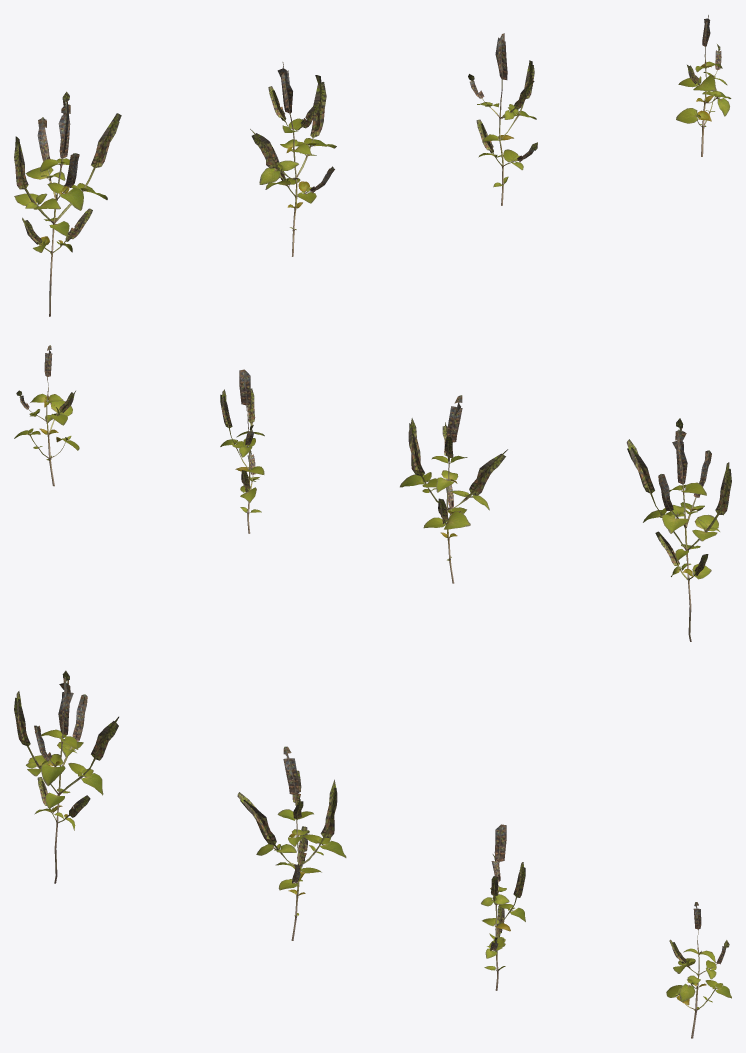
The model's file is shrub.glb.
The picture shows the model from 3 angles, top to bottom: view 1: azimuth 30°, elevation 25°; view 2: azimuth 150°, elevation 25°; view 3: azimuth 330°, elevation 25°; orthographic projection. The views are drawn at different scales.
Parts seen in each view (by area): view 1: shrub_03_a, shrub_03_b, shrub_03_c, shrub_03_d; view 2: shrub_03_a, shrub_03_b, shrub_03_c, shrub_03_d; view 3: shrub_03_a, shrub_03_b, shrub_03_c, shrub_03_d.
Part boxes in pixels (bbox=[...]): shrub_03_a: bbox=[14, 91, 121, 316]; shrub_03_b: bbox=[250, 62, 336, 256]; shrub_03_c: bbox=[468, 33, 537, 205]; shrub_03_d: bbox=[676, 15, 731, 156]; shrub_03_a: bbox=[626, 418, 731, 641]; shrub_03_b: bbox=[400, 395, 507, 583]; shrub_03_c: bbox=[220, 369, 264, 533]; shrub_03_d: bbox=[14, 345, 79, 486]; shrub_03_a: bbox=[14, 670, 118, 883]; shrub_03_b: bbox=[237, 746, 346, 940]; shrub_03_c: bbox=[481, 824, 525, 990]; shrub_03_d: bbox=[666, 902, 731, 1038].
Bounding box in the file's own units: 1.37 × 0.4028 × 0.1512.
Materials: 1 (1 with a texture image).
